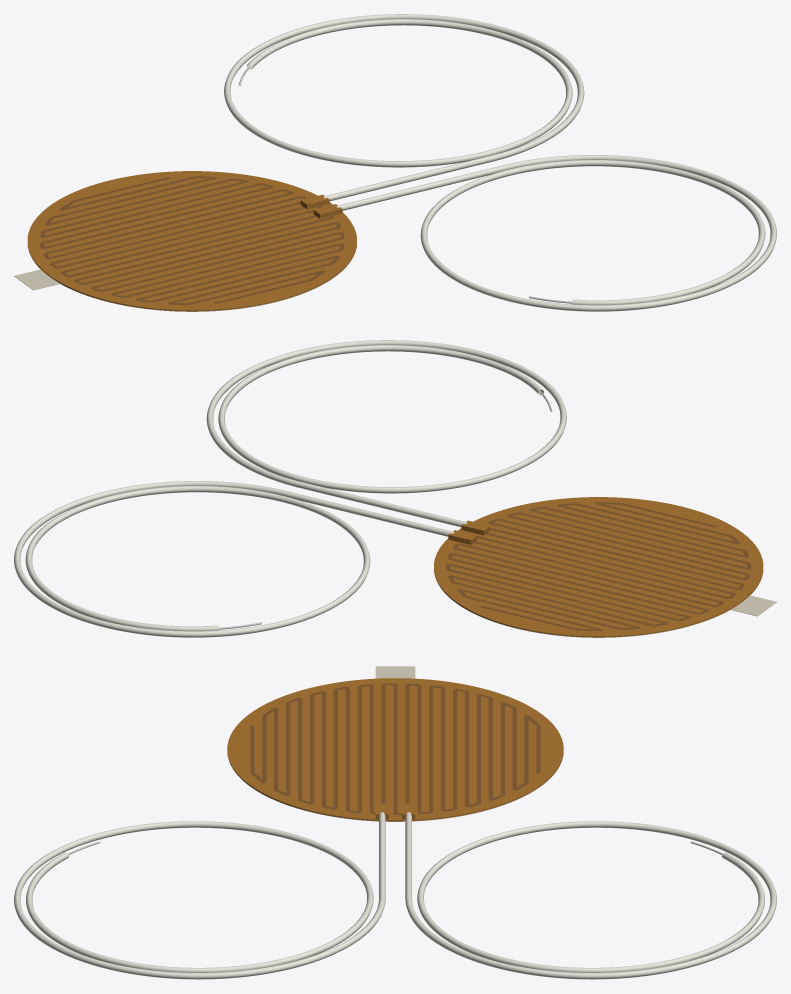
Rendered from omega_khr_2_2_p.glb.
3 renders of one model, top to bottom at view 1: azimuth 30°, elevation 25°; view 2: azimuth 150°, elevation 25°; view 3: azimuth 270°, elevation 25°, orthographic. The views are drawn at different scales.
Visible parts, largest first — view 1: heater_laminate, inferred_foil_routing, lead_1, lead_2, liner_pull_tab; view 2: heater_laminate, inferred_foil_routing, lead_2, lead_1, liner_pull_tab; view 3: heater_laminate, inferred_foil_routing, lead_1, lead_2.
Boxes of the visible parts, x1=… form: heater_laminate: x1=27, y1=171, x2=356, y2=311; inferred_foil_routing: x1=40, y1=176, x2=344, y2=304; lead_1: x1=336, y1=155, x2=776, y2=311; lead_2: x1=224, y1=14, x2=584, y2=201; liner_pull_tab: x1=14, y1=269, x2=60, y2=290; heater_laminate: x1=434, y1=497, x2=763, y2=637; inferred_foil_routing: x1=446, y1=502, x2=751, y2=631; lead_2: x1=14, y1=481, x2=454, y2=637; lead_1: x1=206, y1=340, x2=566, y2=527; liner_pull_tab: x1=730, y1=595, x2=776, y2=616; heater_laminate: x1=227, y1=678, x2=563, y2=821; inferred_foil_routing: x1=250, y1=683, x2=540, y2=814; lead_1: x1=14, y1=812, x2=385, y2=979; lead_2: x1=405, y1=812, x2=776, y2=979.
Bounding box in the file's own units: 0.1126 × 0.00119 × 0.1152.
